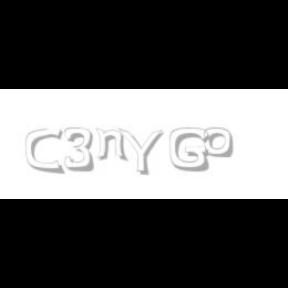3: (64, 128, 96, 172)
C: (26, 128, 62, 174)
G: (169, 128, 209, 172)
Y: (118, 128, 164, 176)
n: (95, 128, 129, 162)
o: (204, 128, 232, 158)
